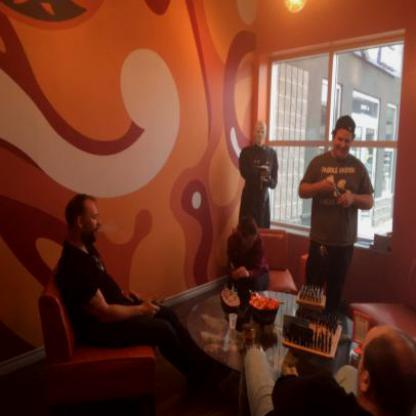person: (50, 184, 176, 360), (301, 113, 379, 292), (335, 318, 415, 416), (240, 120, 278, 228), (227, 219, 268, 292)
